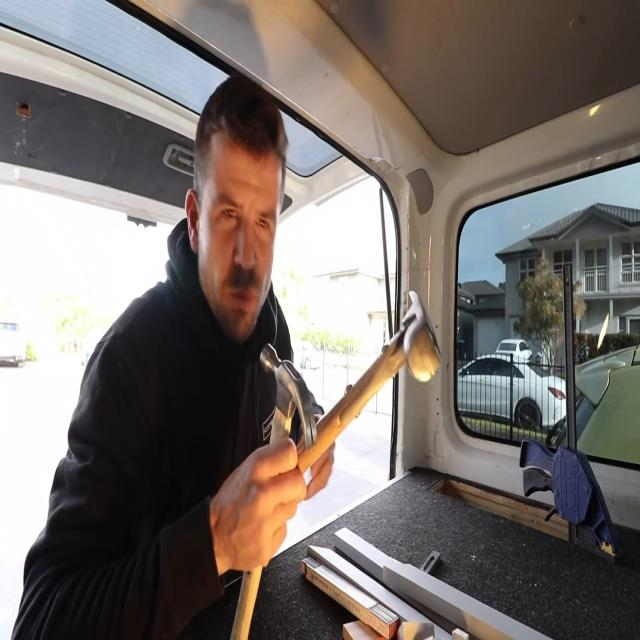hammer: (294, 287, 440, 473), (230, 342, 319, 640)
